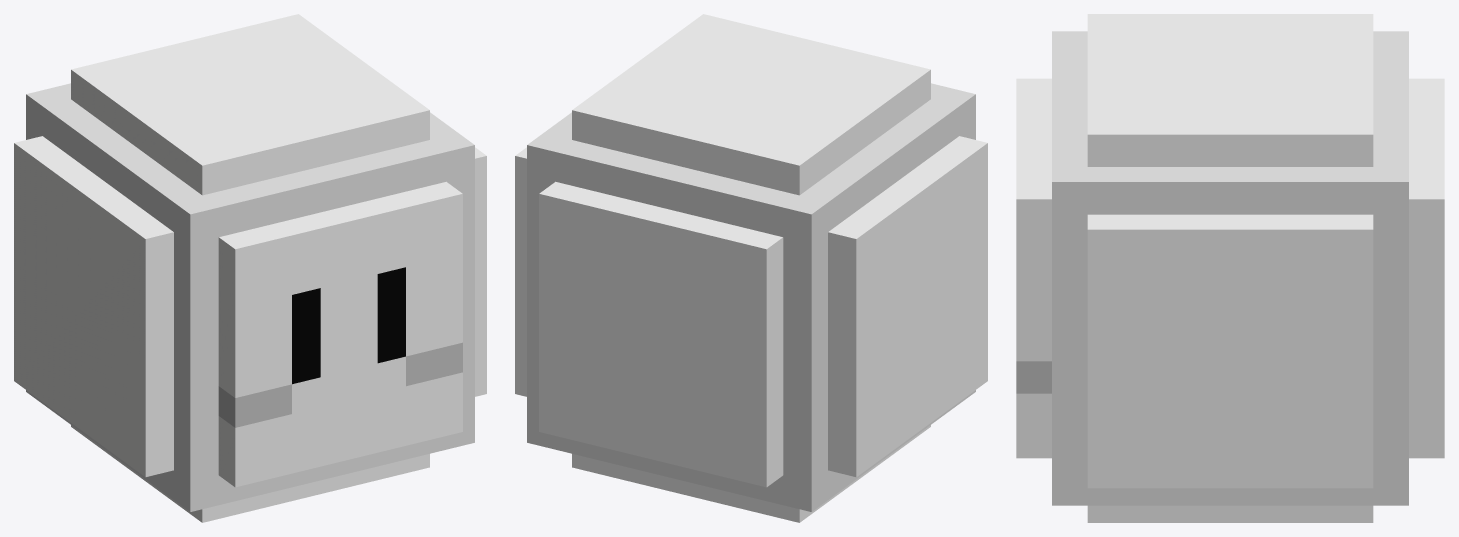
The model's file is Character.obj.
3 renders of one model, left to right at view 1: azimuth 30°, elevation 25°; view 2: azimuth 150°, elevation 25°; view 3: azimuth 270°, elevation 25°, orthographic. The views are drawn at different scales.
Bounding box in the file's own units: 12 × 12 × 12.
Materials: 1 (1 with a texture image).
